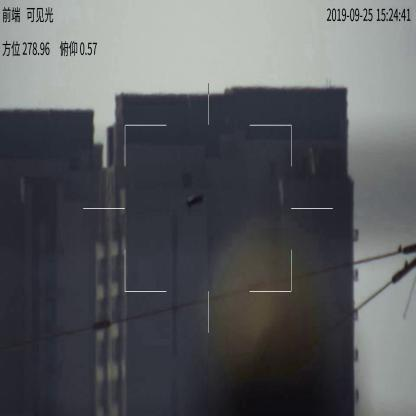uav: (186, 194, 205, 207)
